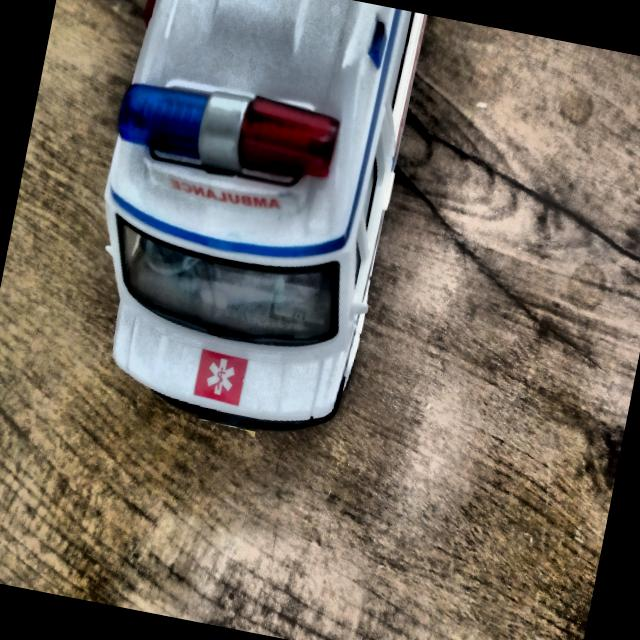Ambulance: (58, 0, 440, 463)
